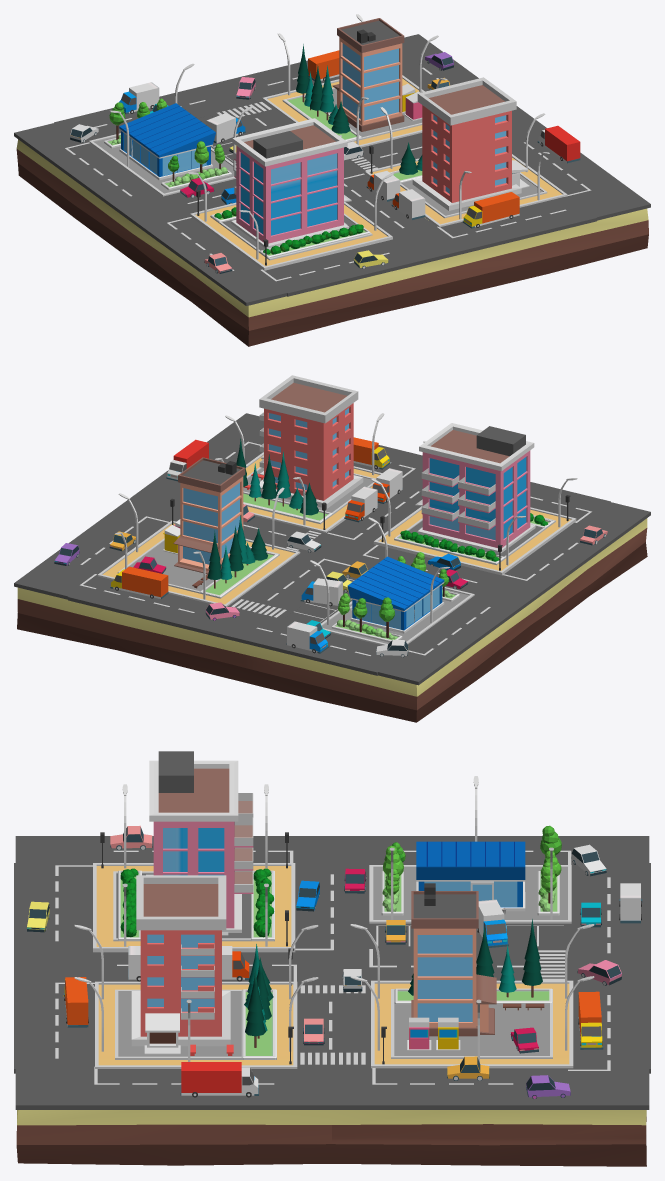
File: CityBuildings.fbx
3 renders of one model, top to bottom at view 1: azimuth 30°, elevation 25°; view 2: azimuth 150°, elevation 25°; view 3: azimuth 270°, elevation 25°, orthographic. The views are drawn at different scales.
Parts seen in each view (by area): view 1: ROAD, Floor_6, House, House_2, House_3, Shop, Floor, Floor_4_4, Floor_2, Car_08_3, Floor_3, Car_08_4 (+10 smaller); view 2: ROAD, Floor_6, House, House_2, House_3, Shop, Floor, Floor_3, Floor_4_4, Floor_4_3, Car_08_5, Floor_2 (+13 smaller); view 3: ROAD, Floor_6, House_2, House, House_3, Shop, Floor_3, Floor_4_3, Floor, Floor_2, Floor_4_4, Floor_4_2 (+25 smaller).
Part boxes in pixels (x1,y1,x2,y2): ROAD: (14, 34, 650, 305); Floor_6: (16, 139, 648, 346); House: (231, 118, 351, 248); House_2: (412, 77, 529, 210); House_3: (332, 18, 404, 131); Shop: (119, 103, 215, 180); Floor: (190, 202, 392, 270); Floor_4_4: (89, 133, 236, 196); Floor_2: (365, 154, 567, 227); Car_08_3: (462, 192, 519, 228); Floor_3: (262, 75, 424, 147); Car_08_4: (537, 125, 580, 163); ROAD: (14, 413, 650, 685); Floor_6: (17, 518, 647, 722); House: (415, 423, 535, 553); House_2: (259, 375, 363, 508); House_3: (173, 457, 245, 573); Shop: (347, 556, 444, 633); Floor: (373, 506, 576, 575); Floor_3: (97, 520, 300, 606); Floor_4_4: (321, 586, 474, 645); Floor_4_3: (117, 538, 279, 598); Car_08_5: (110, 566, 168, 598); Floor_2: (245, 452, 381, 533); ROAD: (14, 836, 650, 1109); Floor_6: (16, 1110, 646, 1166); House_2: (131, 875, 230, 1054); House: (146, 751, 253, 935); House_3: (411, 883, 496, 1036); Shop: (416, 841, 525, 911); Floor_3: (371, 980, 573, 1068); Floor_4_3: (391, 989, 552, 1058); Floor: (93, 863, 295, 952); Floor_2: (95, 981, 297, 1068); Floor_4_4: (369, 865, 571, 923); Floor_4_2: (115, 989, 276, 1059).
Size of the model in its own units: 2192 by 744 by 2192.
Materials: 2 (2 with a texture image).
